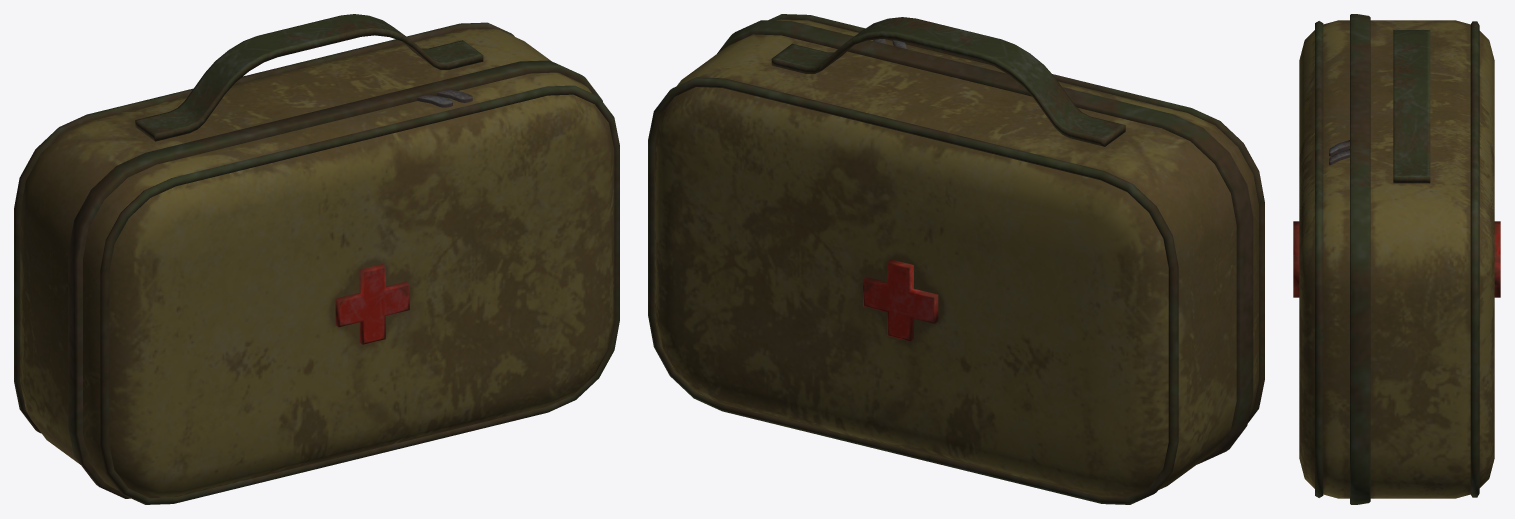
The model's file is medicine_pouch_-_pbr_game_ready_asset.glb.
3 renders of one model, left to right at view 1: azimuth 30°, elevation 25°; view 2: azimuth 150°, elevation 25°; view 3: azimuth 270°, elevation 25°, orthographic. The views are drawn at different scales.
Visible parts, largest first — view 1: Circle.011; view 2: Circle.011; view 3: Circle.011.
Part boxes in pixels (x1,y1,x2,y2): Circle.011: [14, 14, 619, 504]; Circle.011: [648, 14, 1264, 504]; Circle.011: [1293, 14, 1500, 504].
Bounding box in the file's own units: 0.7803 × 0.5529 × 0.2885.
Materials: 1 (1 with a texture image).
